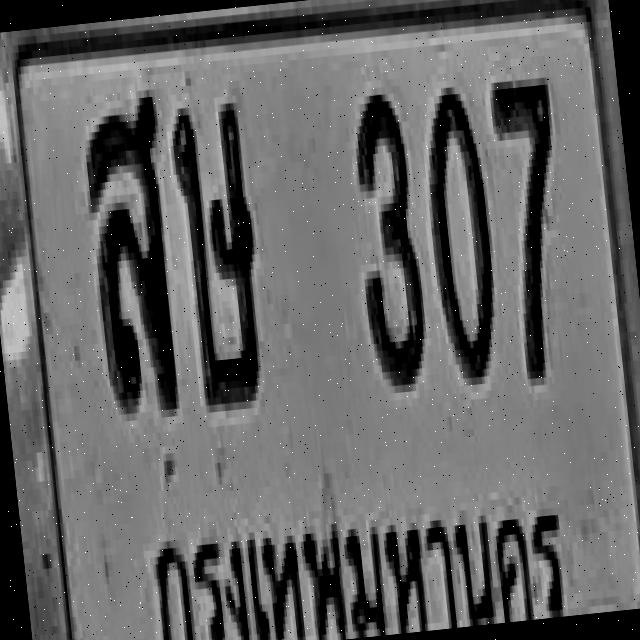0: (416, 74, 504, 384)
3: (343, 85, 432, 387)
48SorRueSi: (167, 94, 270, 406)
49SorSuea: (76, 86, 187, 412)
7: (487, 66, 578, 383)
Bangkok: (139, 466, 577, 640)
